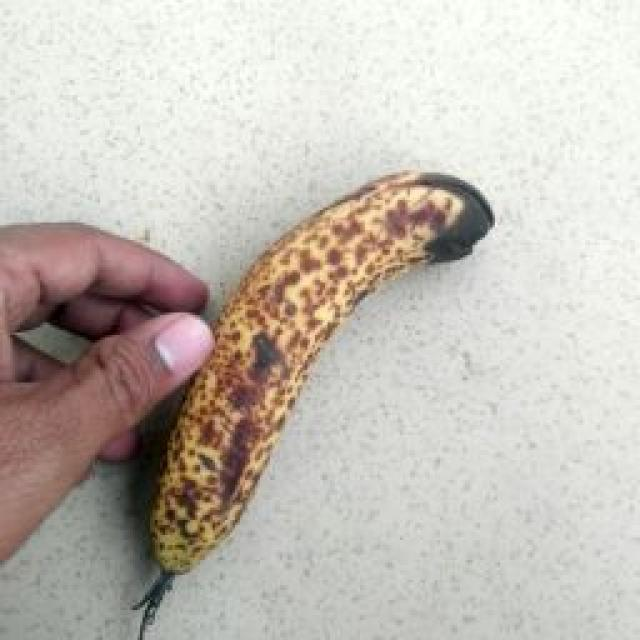banana: (26, 108, 522, 577)
